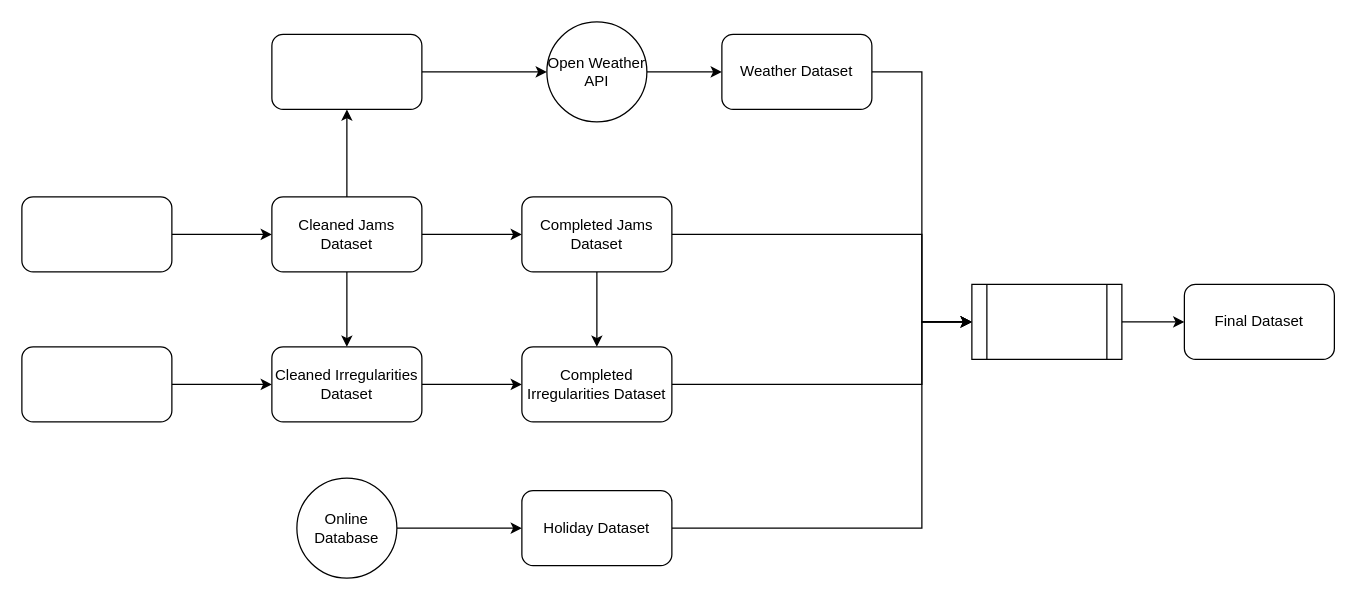
This 1356x600 diagram has some shape labels left out. Each missing label, with the centre of its shape:
Coordinate Data: point 346,71
Merge: point 1046,321
Raw Irregularities Dataset: point 96,384
Raw Jams Dataset: point 96,234
